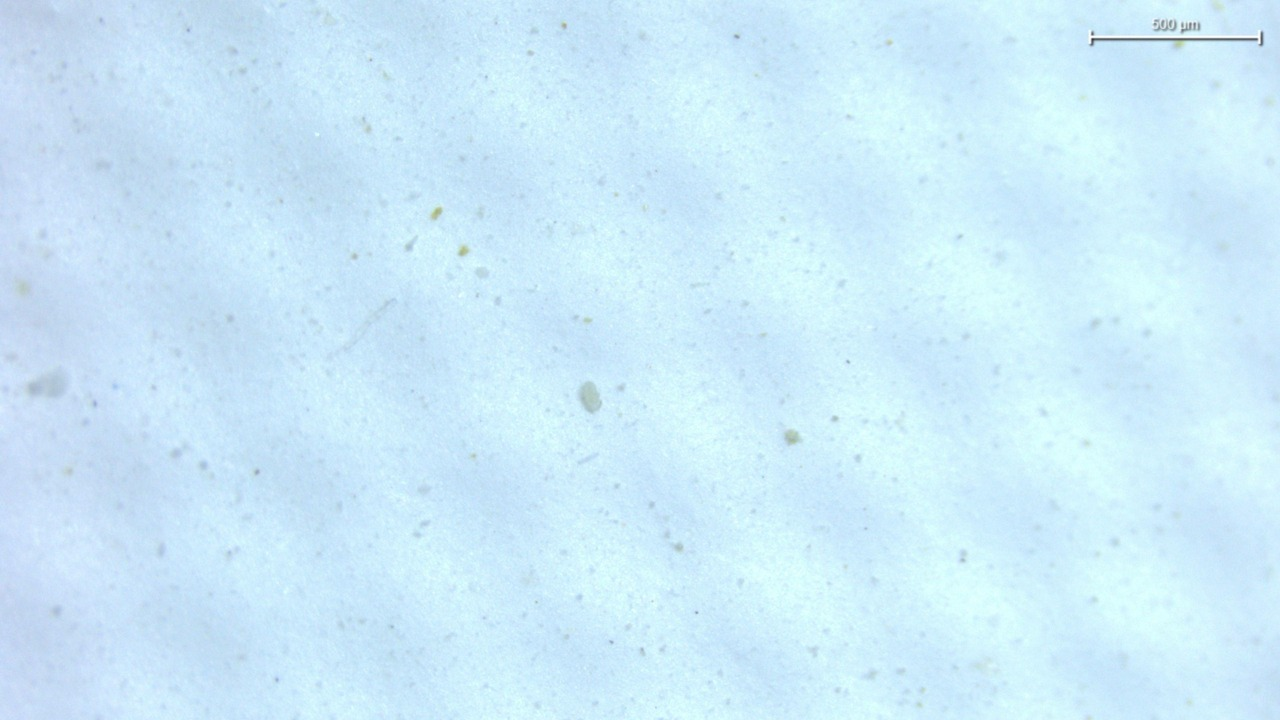microplastic_fragment: (579, 381, 602, 413)
